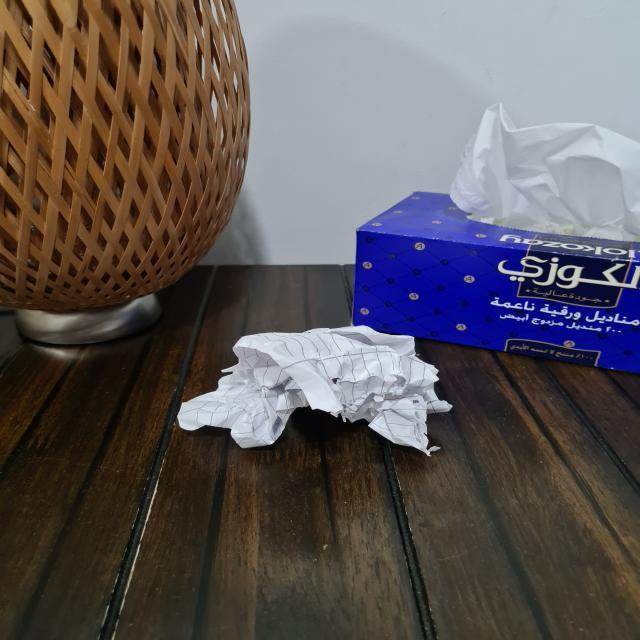Paper: (179, 329, 455, 459)
